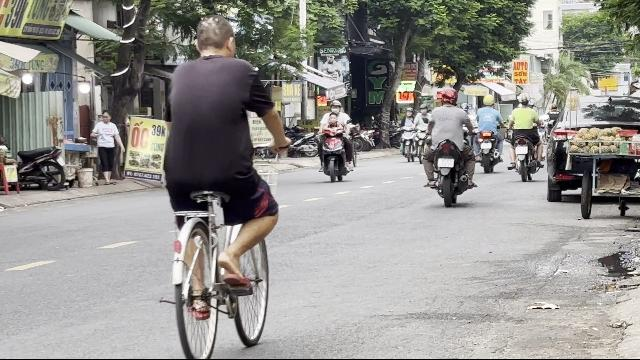helmet: (438, 87, 458, 105)
licenseplate: (438, 158, 454, 168)
motorcyclist: (421, 86, 477, 206)
